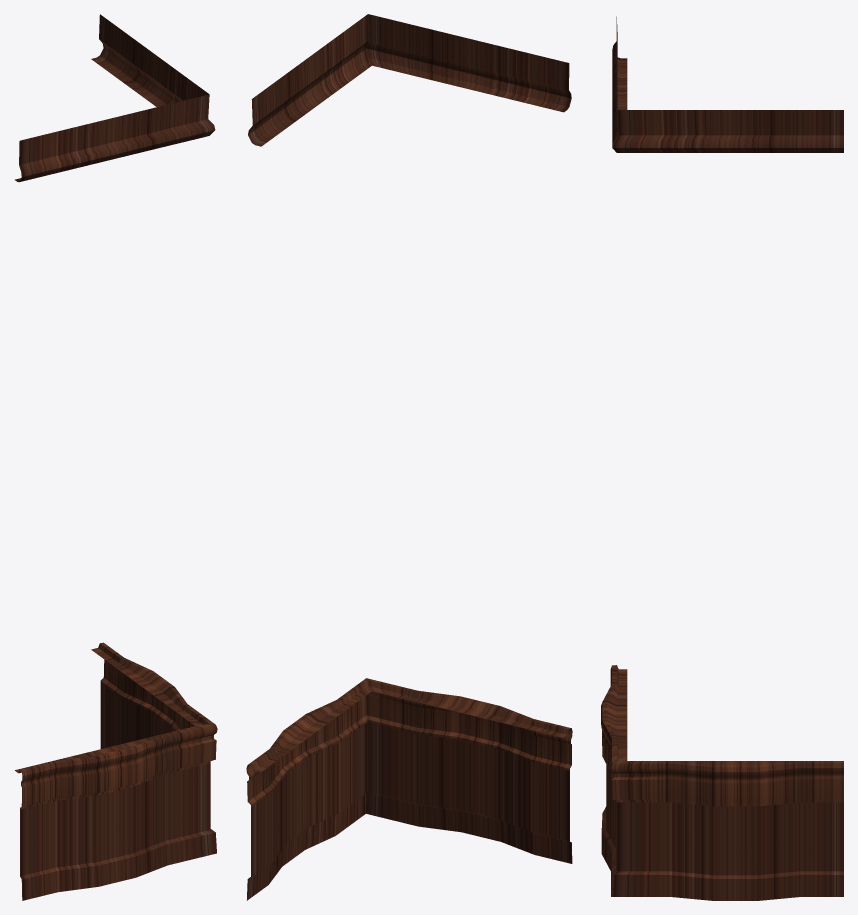
The model's file is Wallbar_Ston_02.fbx.
3 renders of one model, left to right at view 1: azimuth 30°, elevation 25°; view 2: azimuth 150°, elevation 25°; view 3: azimuth 270°, elevation 25°, orthographic. The views are drawn at different scales.
Visible parts, largest first — view 1: SM_Wallbar_Ston_02; view 2: SM_Wallbar_Ston_02; view 3: SM_Wallbar_Ston_02.
Boxes of the visible parts, left/top/right/bottom form: SM_Wallbar_Ston_02: left=14, top=14, right=217, bottom=900; SM_Wallbar_Ston_02: left=246, top=14, right=572, bottom=900; SM_Wallbar_Ston_02: left=601, top=16, right=843, bottom=900.
Size of the model in its own units: 112 by 400 by 112.
